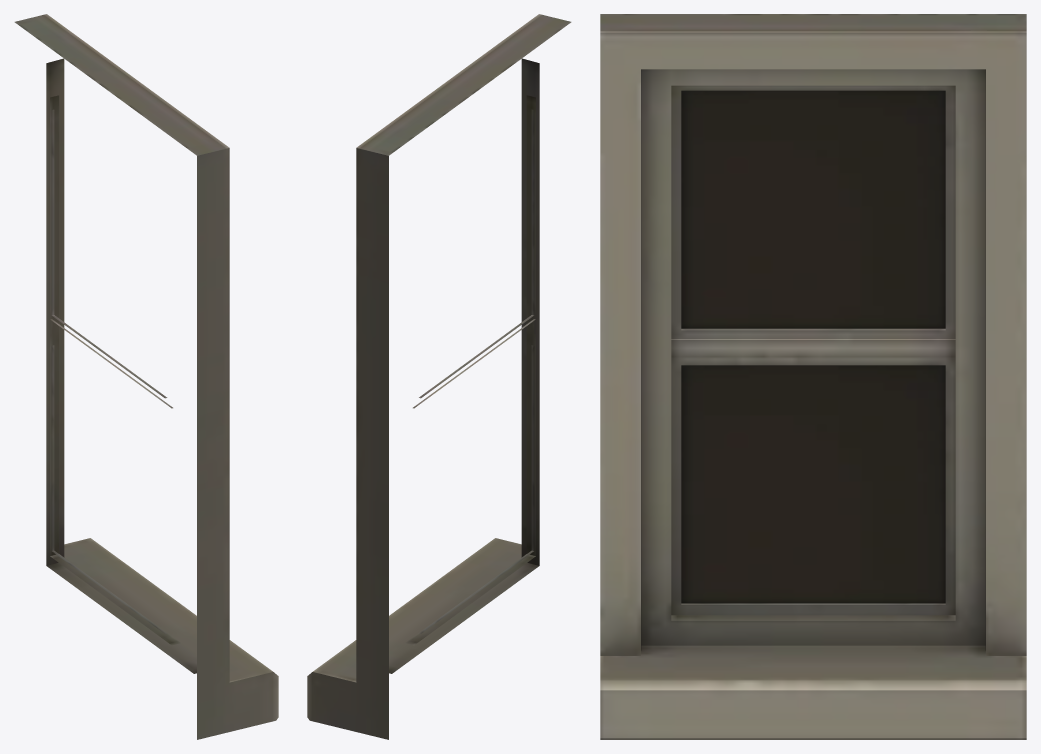
The picture shows the model from 3 angles, left to right: view 1: azimuth 30°, elevation 25°; view 2: azimuth 150°, elevation 25°; view 3: azimuth 270°, elevation 25°; orthographic projection. The views are drawn at different scales.
Visible parts, largest first — view 1: body0_model0_lod0_mesh0; view 2: body0_model0_lod0_mesh0; view 3: body0_model0_lod0_mesh0.
Part boxes in pixels (x1,y1,x2,y2): body0_model0_lod0_mesh0: (14, 14, 278, 739); body0_model0_lod0_mesh0: (307, 14, 571, 739); body0_model0_lod0_mesh0: (600, 14, 1026, 739).
Size of the model in its own units: 8.12 by 55.5 by 31.5.
Materials: 1 (1 with a texture image).
